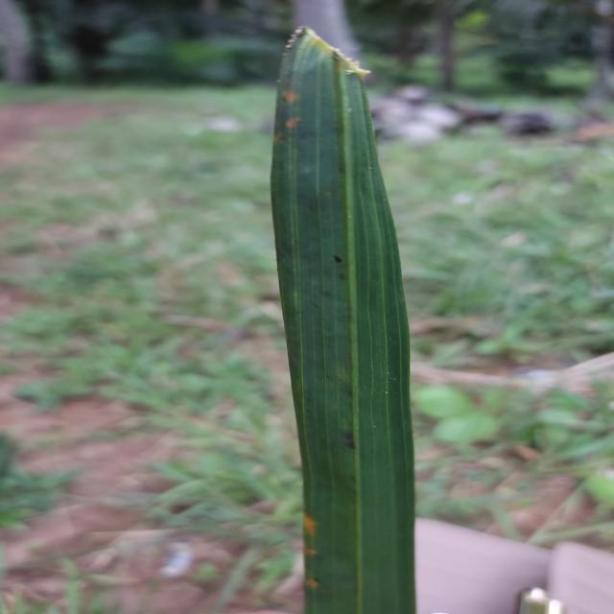Kalium: (267, 19, 421, 614)
